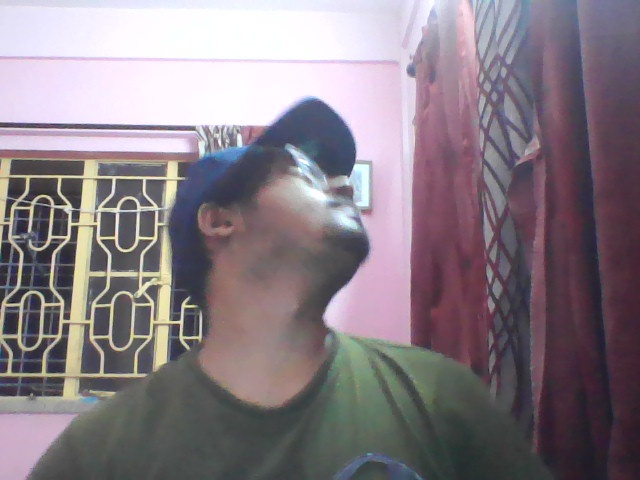Helmet: (142, 96, 369, 178)
